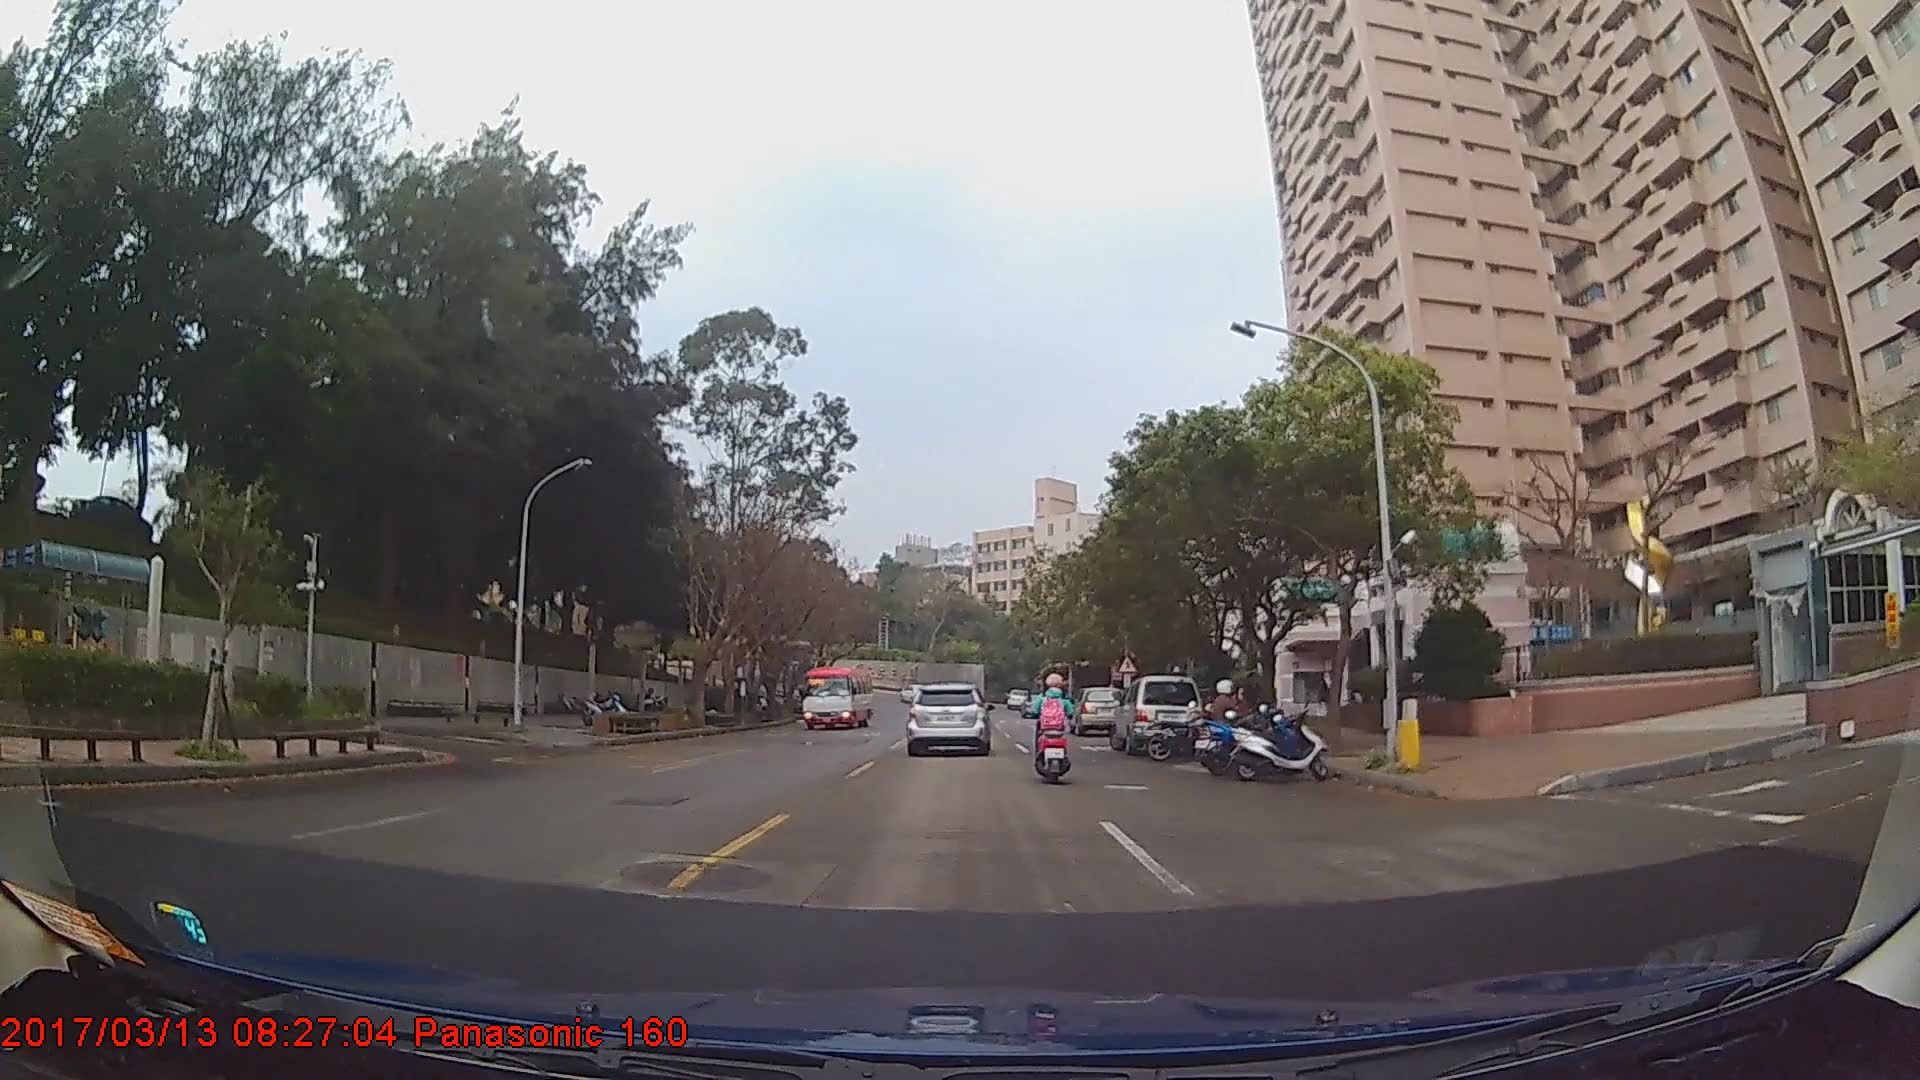rider: (1034, 672, 1083, 790), (1200, 678, 1251, 768)
vehicle: (1110, 674, 1203, 755), (906, 682, 990, 759), (800, 664, 873, 731), (1072, 686, 1126, 736)
